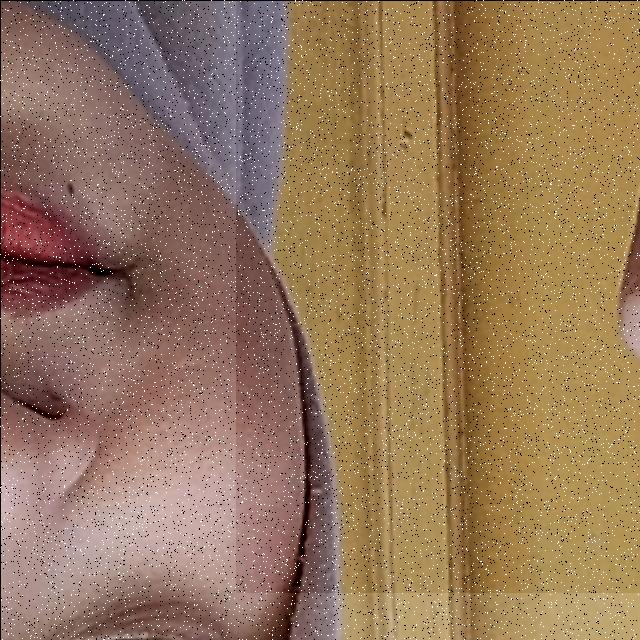baik: (235, 0, 640, 592)
